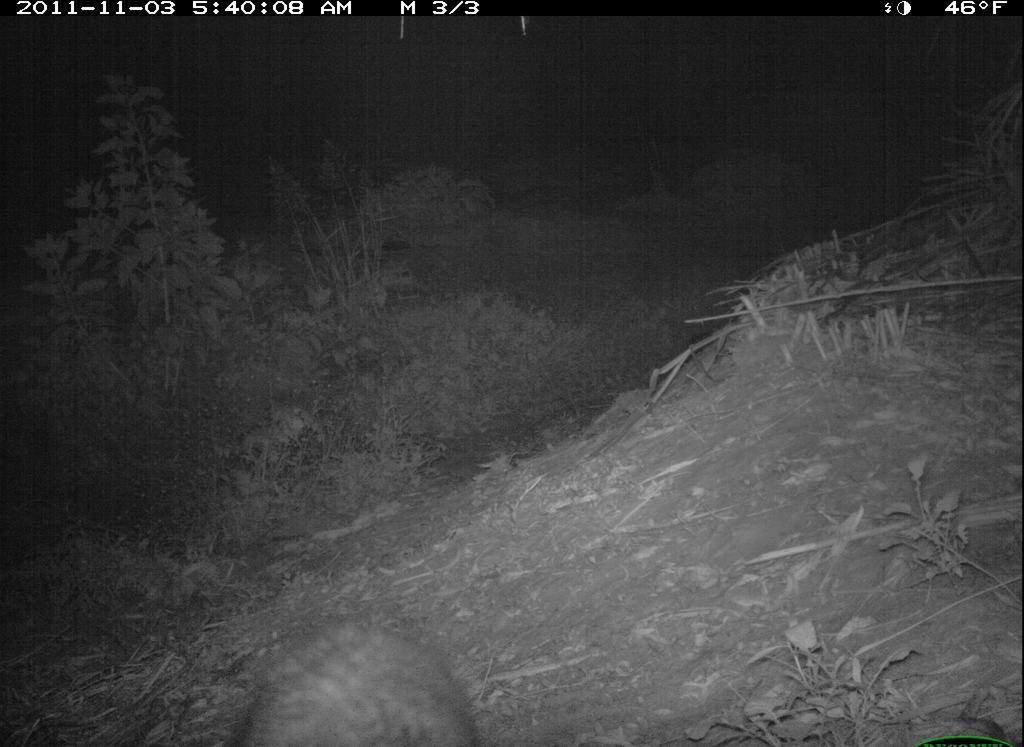raccoon: (217, 591, 488, 747)
